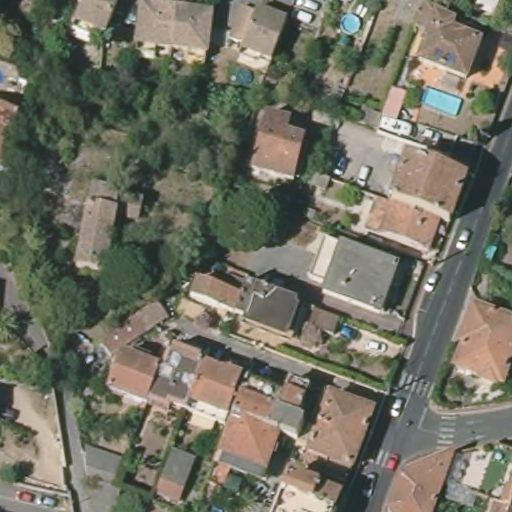pool: (421, 84, 465, 119), (340, 13, 363, 36)
